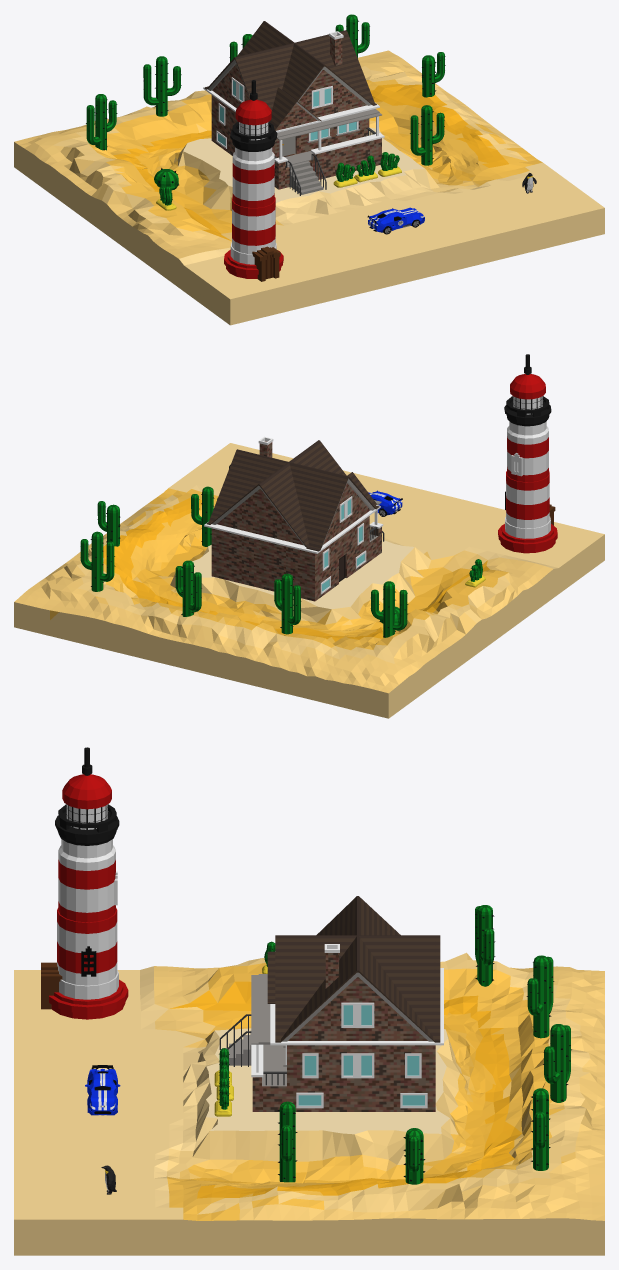
3 views of the same model, one above another, from view 1: azimuth 30°, elevation 25°; view 2: azimuth 150°, elevation 25°; view 3: azimuth 270°, elevation 25° (orthographic). The views are drawn at different scales.
Parts seen in each view (by area): view 1: Cube.001, Cube.117, OBJRANDOM_LIGHTHOUSE, Cylinder.044, Cylinder.037, Cylinder.045, VEHICLES_RACING_CAR, Cylinder.038, Cylinder.042, Cylinder.039, Cylinder.041; view 2: Cube.001, Cube.117, OBJRANDOM_LIGHTHOUSE, Cylinder.042, Cylinder.045, Cylinder.044, Cylinder.043, Cylinder.037, Cylinder.038, VEHICLES_RACING_CAR; view 3: Cube.001, Cube.117, OBJRANDOM_LIGHTHOUSE, Cylinder.044, Cylinder.043, VEHICLES_RACING_CAR, Cylinder.045, Cylinder.037, Cylinder.042, Cylinder.038.
Part boxes in pixels (left/top/right/bottom): Cube.001: left=14, top=50, right=604, bottom=325; Cube.117: left=203, top=21, right=384, bottom=195; OBJRANDOM_LIGHTHOUSE: left=224, top=80, right=283, bottom=281; Cylinder.044: left=143, top=56, right=181, bottom=116; Cylinder.037: left=410, top=105, right=444, bottom=165; Cylinder.045: left=86, top=94, right=117, bottom=150; VEHICLES_RACING_CAR: left=367, top=207, right=424, bottom=234; Cylinder.038: left=422, top=52, right=445, bottom=97; Cylinder.042: left=335, top=14, right=369, bottom=58; Cylinder.039: left=333, top=162, right=357, bottom=187; Cylinder.041: left=378, top=152, right=401, bottom=176; Cube.001: left=14, top=443, right=604, bottom=718; Cube.117: left=204, top=436, right=384, bottom=601; OBJRANDOM_LIGHTHOUSE: left=498, top=354, right=557, bottom=553; Cylinder.042: left=80, top=531, right=115, bottom=591; Cylinder.045: left=370, top=581, right=408, bottom=637; Cylinder.044: left=274, top=573, right=301, bottom=634; Cylinder.043: left=175, top=560, right=201, bottom=616; Cylinder.037: left=191, top=486, right=217, bottom=546; Cylinder.038: left=97, top=501, right=120, bottom=546; VEHICLES_RACING_CAR: left=368, top=490, right=402, bottom=516; Cube.001: left=14, top=952, right=604, bottom=1255; Cube.117: left=219, top=896, right=443, bottom=1111; OBJRANDOM_LIGHTHOUSE: left=41, top=747, right=128, bottom=1019; Cylinder.044: left=526, top=955, right=554, bottom=1038; Cylinder.043: left=543, top=1024, right=571, bottom=1102; VEHICLES_RACING_CAR: left=85, top=1065, right=120, bottom=1115; Cylinder.045: left=475, top=905, right=495, bottom=986; Cylinder.037: left=277, top=1101, right=297, bottom=1182; Cylinder.042: left=531, top=1088, right=550, bottom=1170; Cylinder.038: left=403, top=1128, right=425, bottom=1184.
Size of the model in its own units: 4002 by 2266 by 4001.
Materials: 36 (3 with a texture image).
